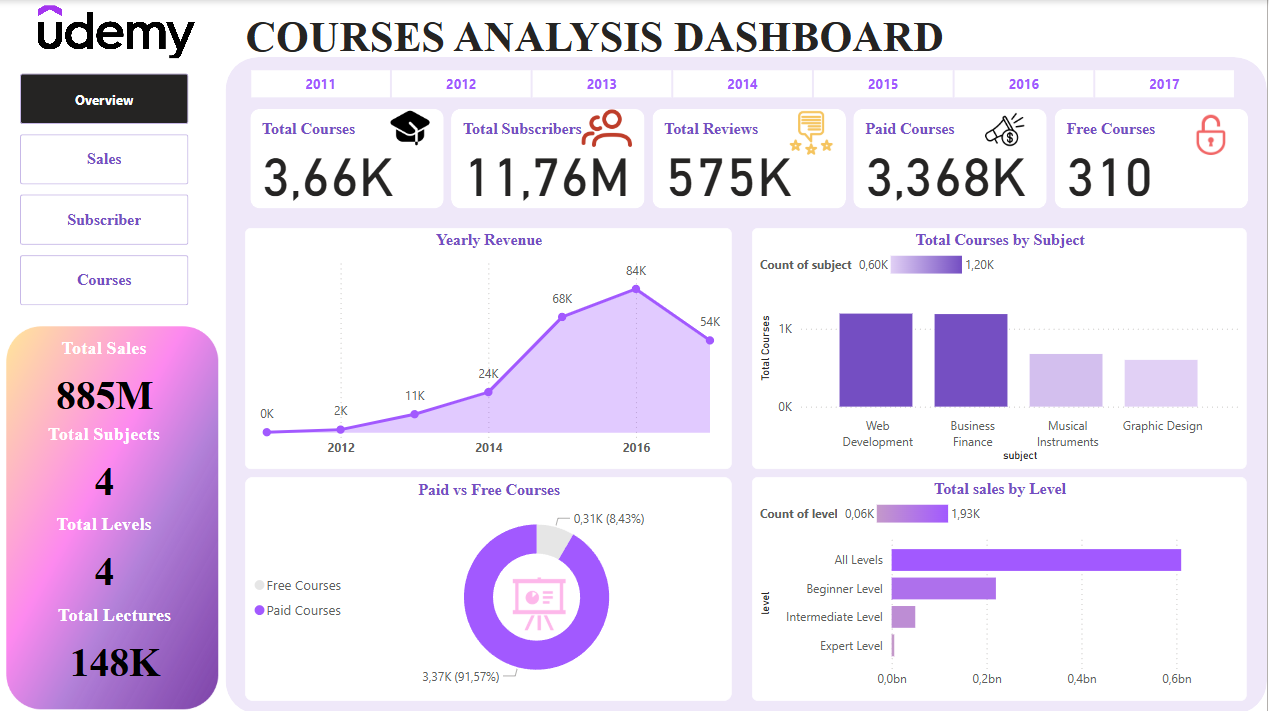

What the dashboard file says about the page in this screenshot:
{"tool":"powerbi","page":{"name":"Overview","canvas":[1280,720],"ordinal":0},"visuals":[{"type":"shape","box":[229,57.3,1051.4,663.3],"z":1000},{"type":"image","box":[22.3,0,190.9,63.6],"z":2000},{"type":"cardVisual","fields":{"Data":["Udemy Courses Dataset.Total Courses","Sum(Udemy Courses Dataset.num_subscribers)","Sum(Udemy Courses Dataset.num_reviews)","CountNonNull(Udemy Courses Dataset.Paid Courses)","CountNonNull(Udemy Courses Dataset.Free Courses)"]},"box":[248.1,105,1022.8,111.3],"z":3000},{"type":"donutChart","title":"Paid vs Free Courses","fields":{"Y":["CountNonNull(Udemy Courses Dataset.Free Courses)","CountNonNull(Udemy Courses Dataset.Paid Courses)"]},"box":[248.1,482,491.5,225.9],"z":4000},{"type":"slicer","fields":{"Values":["Udemy Courses Dataset.published_timestamp.Variation.Date Hierarchy.Year"]},"box":[229,63.6,1041.9,41.4],"z":5000},{"type":"clusteredColumnChart","title":"Total Courses by Subject","fields":{"Category":["Udemy Courses Dataset.subject"],"Y":["Udemy Courses Dataset.Total Courses"]},"box":[760.3,230.6,499.5,243.4],"z":6000},{"type":"lineChart","title":"Yearly Revenue","fields":{"Y":["Sum(Udemy Courses Dataset.price)"],"Category":["Udemy Courses Dataset.published_timestamp.Variation.Date Hierarchy.Year","Udemy Courses Dataset.published_timestamp.Variation.Date Hierarchy.Month"]},"box":[248.1,230.6,491.5,243.4],"z":7000},{"type":"clusteredBarChart","title":"Total sales by Level","fields":{"Category":["Udemy Courses Dataset.level"],"Y":["Sum(Udemy Courses Dataset.Total Sales)"]},"box":[760.3,482,499.5,225.9],"z":8000},{"type":"pageNavigator","box":[20.7,74.8,170.2,235.4],"z":9000},{"type":"image","box":[0,323.5,229.2,396.7],"z":9500},{"type":"textbox","box":[243.4,8,757.1,60.4],"z":10000},{"type":"card","title":"Total Sales","fields":{"Values":["Sum(Udemy Courses Dataset.Total Sales)"]},"box":[11.1,340.4,190.9,97],"z":11000},{"type":"card","title":"Total Subjects","fields":{"Values":["Count(Udemy Courses Dataset.subject)"]},"box":[11.1,426.3,190.9,97],"z":12000},{"type":"card","title":"Total Levels ","fields":{"Values":["Count(Udemy Courses Dataset.level)"]},"box":[11.1,518.5,190.9,97],"z":13000},{"type":"card","title":"Total Lectures","fields":{"Values":["Sum(Udemy Courses Dataset.num_lectures)"]},"box":[20.7,610.8,190.9,97],"z":14000},{"type":"image","box":[987.8,101.8,55.7,58.9],"z":15000},{"type":"image","box":[388.1,100.2,54.1,58.9],"z":16000},{"type":"image","box":[788.9,105,62,58.9],"z":17000},{"type":"image","box":[577.4,84.3,73.2,89.1],"z":18000},{"type":"image","box":[513.8,577.4,63.6,65.2],"z":19000},{"type":"image","box":[1197.7,105,50.9,63.6],"z":20000}]}

Visuals, with their boxes in screenshot pixels (x1, y1, x2, y2), scaled from the page's 1280x720 canvas onto the 1269x711 screenshot:
shape: 227,57,1268,710
image: 22,0,211,63
cardVisual - Udemy Courses Dataset.Total Courses x Sum(Udemy Courses Dataset.num_subscribers): 246,104,1260,214
"Paid vs Free Courses" donutChart: 246,476,733,699
slicer - Udemy Courses Dataset.published_timestamp.Variation.Date Hierarchy.Year: 227,63,1260,104
"Total Courses by Subject" clusteredColumnChart: 754,228,1249,468
"Yearly Revenue" lineChart: 246,228,733,468
"Total sales by Level" clusteredBarChart: 754,476,1249,699
pageNavigator: 21,74,189,306
image: 0,319,227,710
textbox: 241,8,992,68
"Total Sales" card: 11,336,200,432
"Total Subjects" card: 11,421,200,517
"Total Levels " card: 11,512,200,608
"Total Lectures" card: 21,603,210,699
image: 979,101,1035,159
image: 385,99,438,157
image: 782,104,844,162
image: 572,83,645,171
image: 509,570,572,635
image: 1187,104,1238,166
